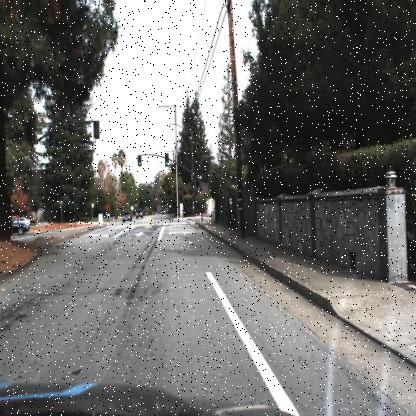car: (6, 214, 29, 237), (14, 212, 33, 230), (12, 219, 30, 237), (203, 201, 219, 219), (120, 207, 132, 225), (136, 206, 145, 221)
trafficLight-Green: (162, 154, 171, 172), (136, 152, 144, 170), (196, 170, 204, 187)
